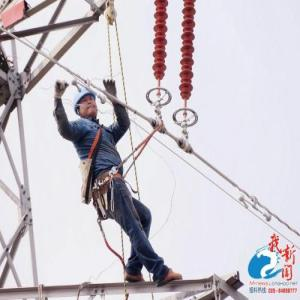blue: (73, 87, 98, 121)
